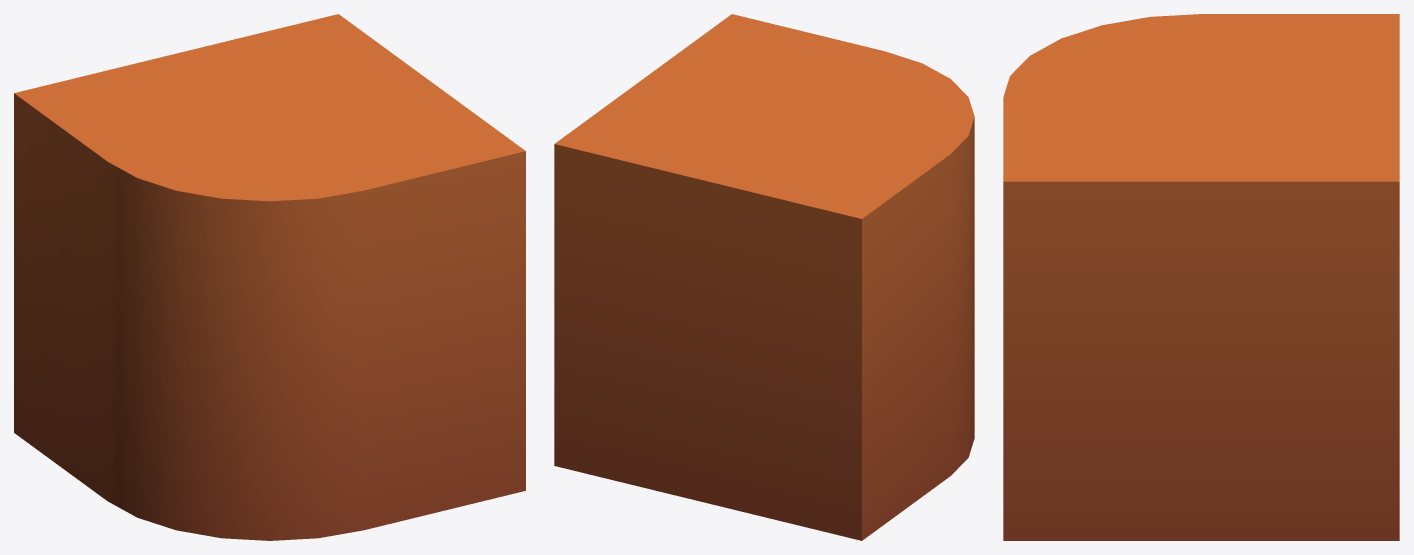
Rendered from terrain_tall_curved.glb.
The picture shows the model from 3 angles, left to right: view 1: azimuth 30°, elevation 25°; view 2: azimuth 150°, elevation 25°; view 3: azimuth 270°, elevation 25°; orthographic projection. The views are drawn at different scales.
Parts seen in each view (by area): view 1: terrain_tall_curved; view 2: terrain_tall_curved; view 3: terrain_tall_curved.
Part boxes in pixels (x1=…): terrain_tall_curved: x1=14, y1=14, x2=525, y2=540; terrain_tall_curved: x1=554, y1=14, x2=974, y2=540; terrain_tall_curved: x1=1003, y1=14, x2=1399, y2=540.
Bounding box in the file's own units: 6 × 6 × 6.
1 material, 1 textured.
